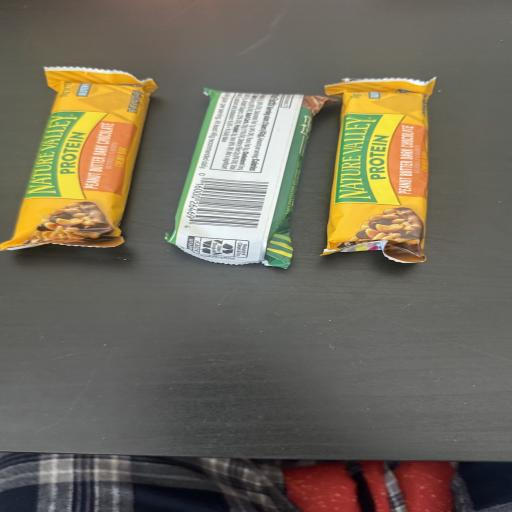granola: (167, 90, 333, 268), (0, 68, 157, 249), (324, 79, 435, 262)
